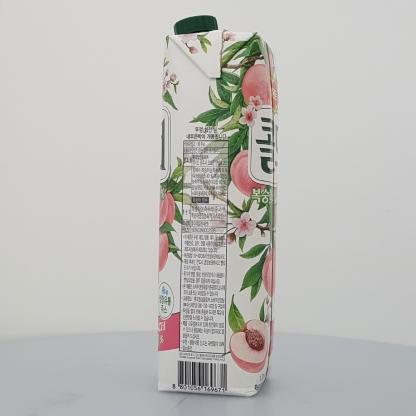-------------100_: (158, 15, 279, 397)
